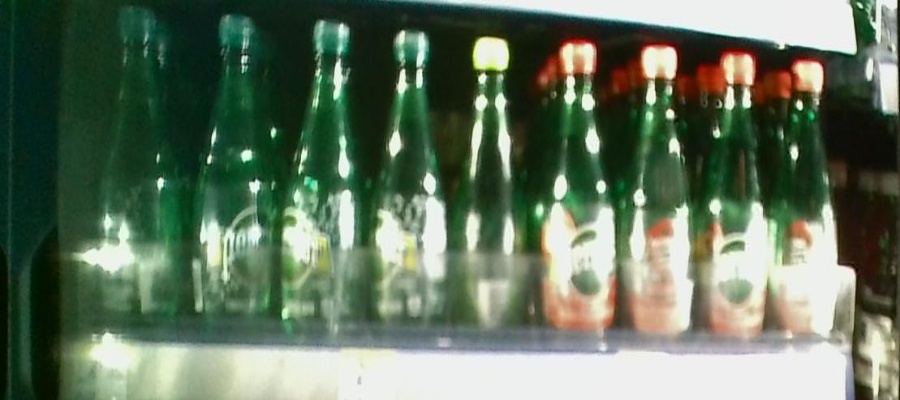bottle: (286, 16, 368, 343), (375, 15, 454, 347), (193, 9, 271, 336), (98, 9, 177, 330), (543, 36, 618, 340), (625, 39, 696, 345), (459, 25, 530, 330), (774, 65, 841, 345), (704, 48, 767, 340)
